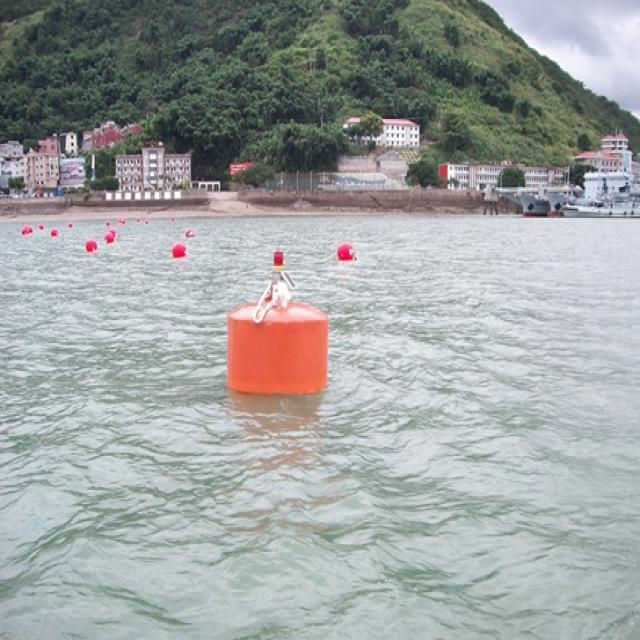buoy: (218, 249, 334, 398)
